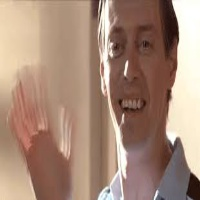ring: (11, 82, 37, 143)
